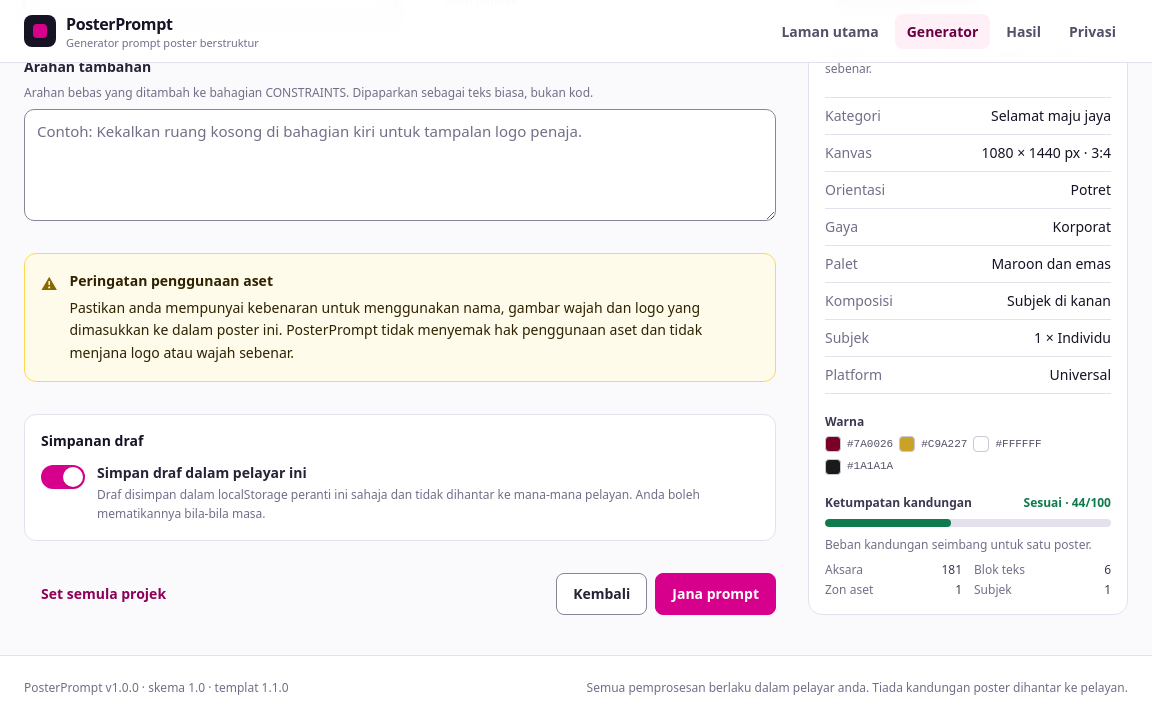
it: sunting semula daripada halaman hasil (FR-019) › kembali ke wizard dengan input masih utuh
(page scrolled)
Click the button "Jana prompt" at coordinates (716, 594), box left=655, top=573, right=776, bottom=615
(page scrolled)
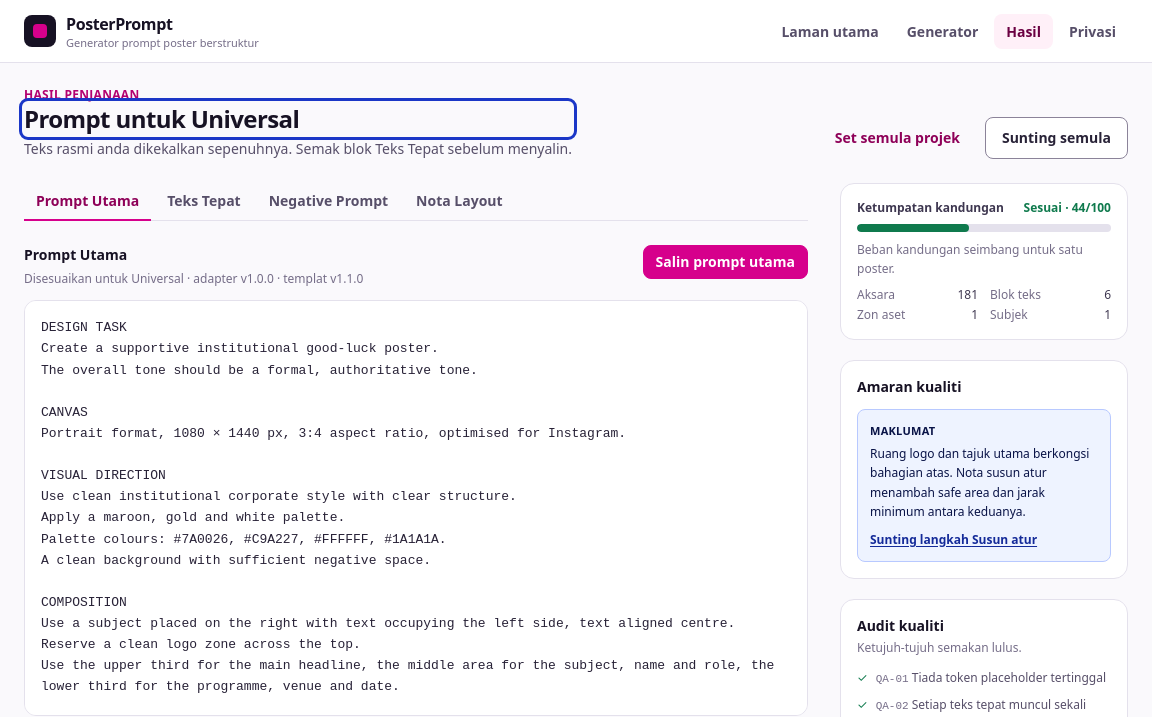
Click the button "Sunting semula" at coordinates (1056, 138), box left=985, top=117, right=1128, bottom=159
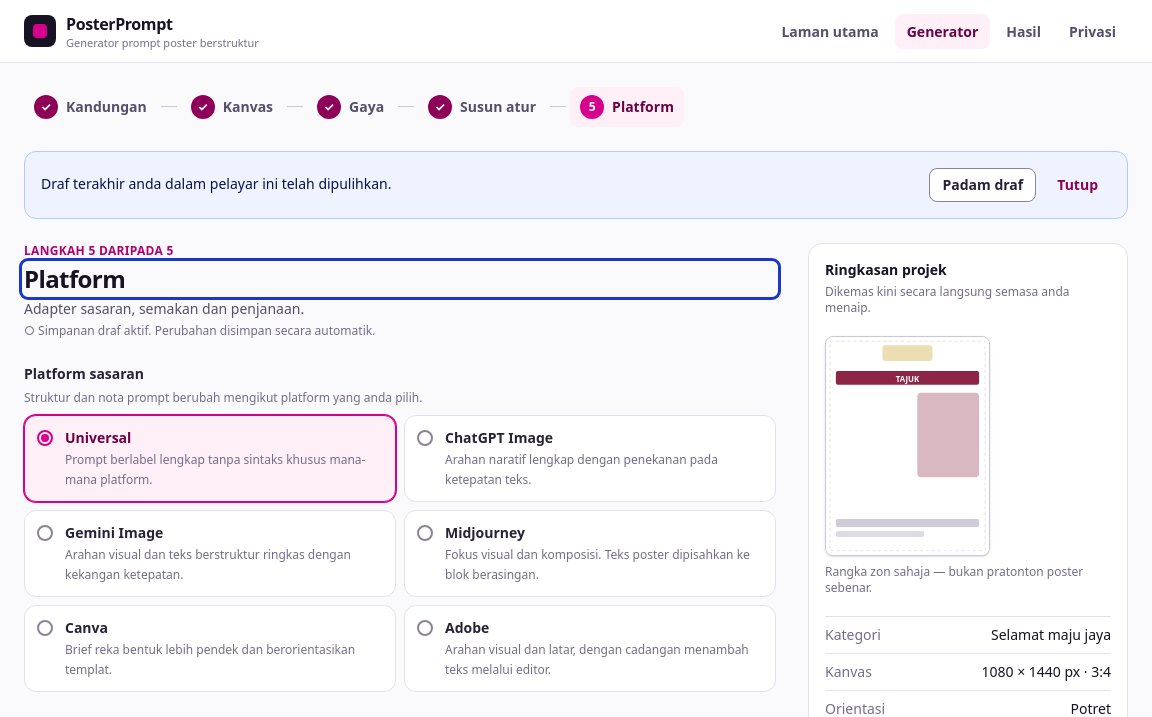
Result: the heading "Platform" is shown at left=24, top=262, right=125, bottom=295
Click the button with aria-label "Langkah 1: Kandungan" at coordinates (90, 107), box left=24, top=87, right=157, bottom=127
(page scrolled)
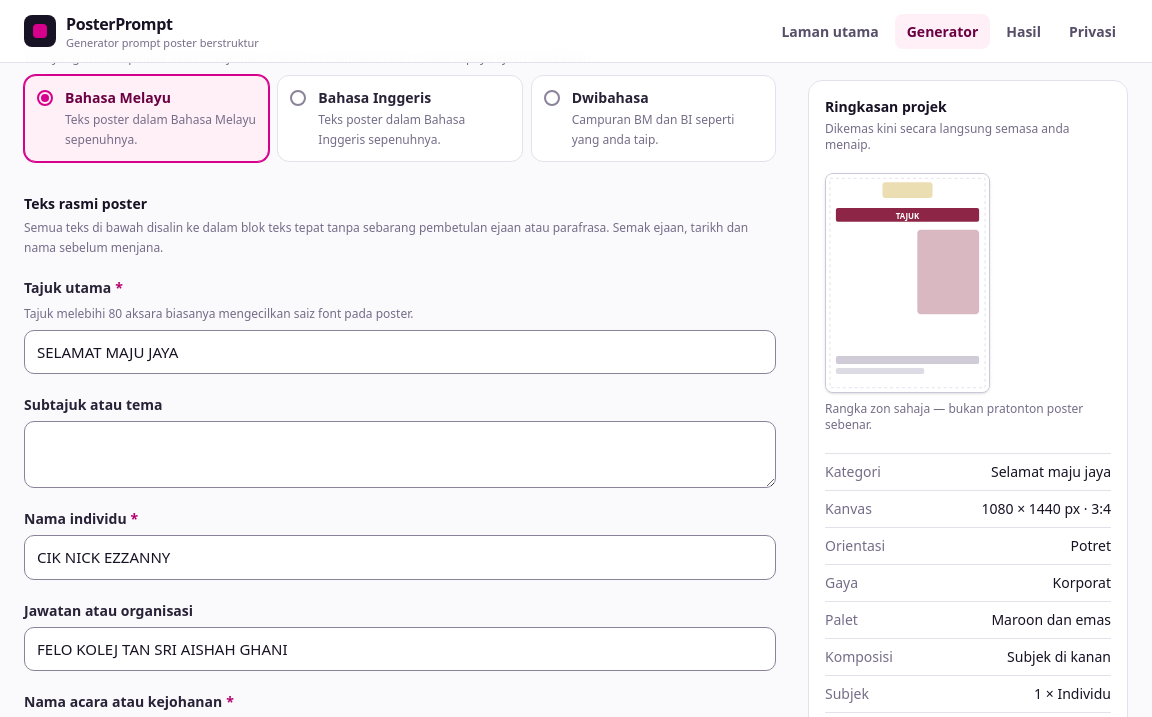
Result: the field labelled "Tajuk utama*" holds "SELAMAT MAJU JAYA" at left=24, top=330, right=776, bottom=374
